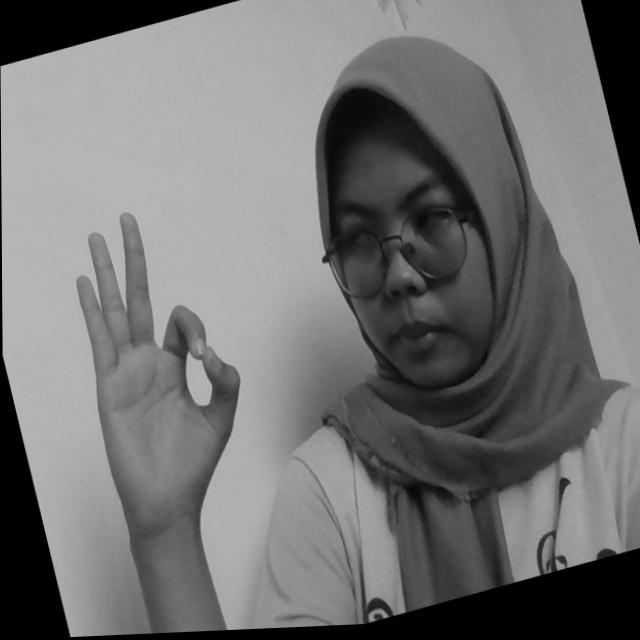F: (50, 190, 268, 535)
